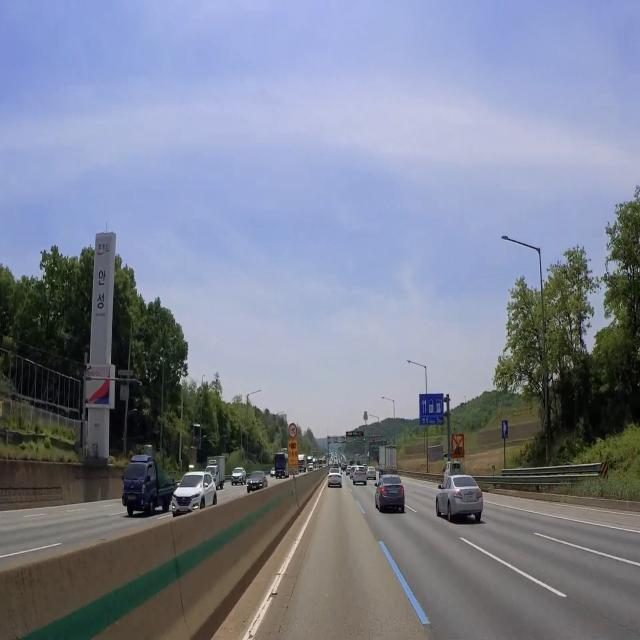car: (463, 491, 478, 505), (387, 487, 399, 499), (176, 505, 188, 517), (125, 492, 137, 503), (331, 478, 340, 488), (357, 474, 365, 483), (251, 484, 257, 490)
